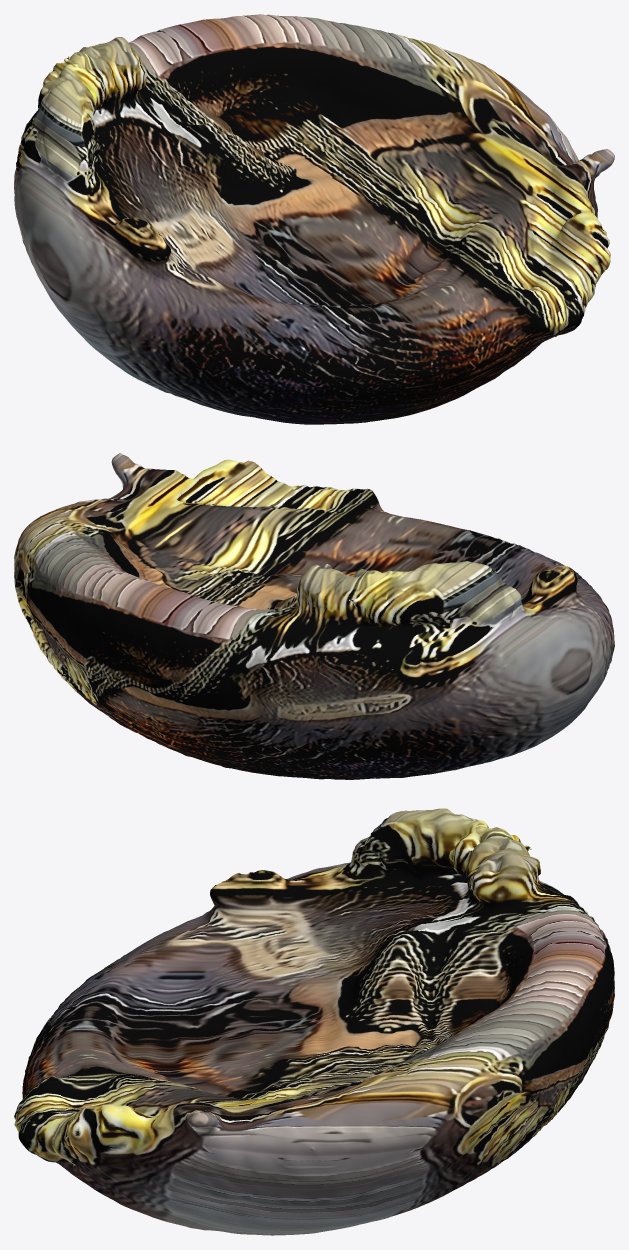
File: kfl-2237.glb
The picture shows the model from 3 angles, top to bottom: view 1: azimuth 30°, elevation 25°; view 2: azimuth 150°, elevation 25°; view 3: azimuth 270°, elevation 25°; orthographic projection. The views are drawn at different scales.
Parts seen in each view (by area): view 1: kfl-2237; view 2: kfl-2237; view 3: kfl-2237.
Part boxes in pixels (x1,y1,x2,y2): kfl-2237: (14,14,614,424); kfl-2237: (14,453,614,779); kfl-2237: (14,808,614,1235).
Bounding box in the file's own units: 0.9957 × 0.5223 × 0.9799.
Materials: 1 (1 with a texture image).
